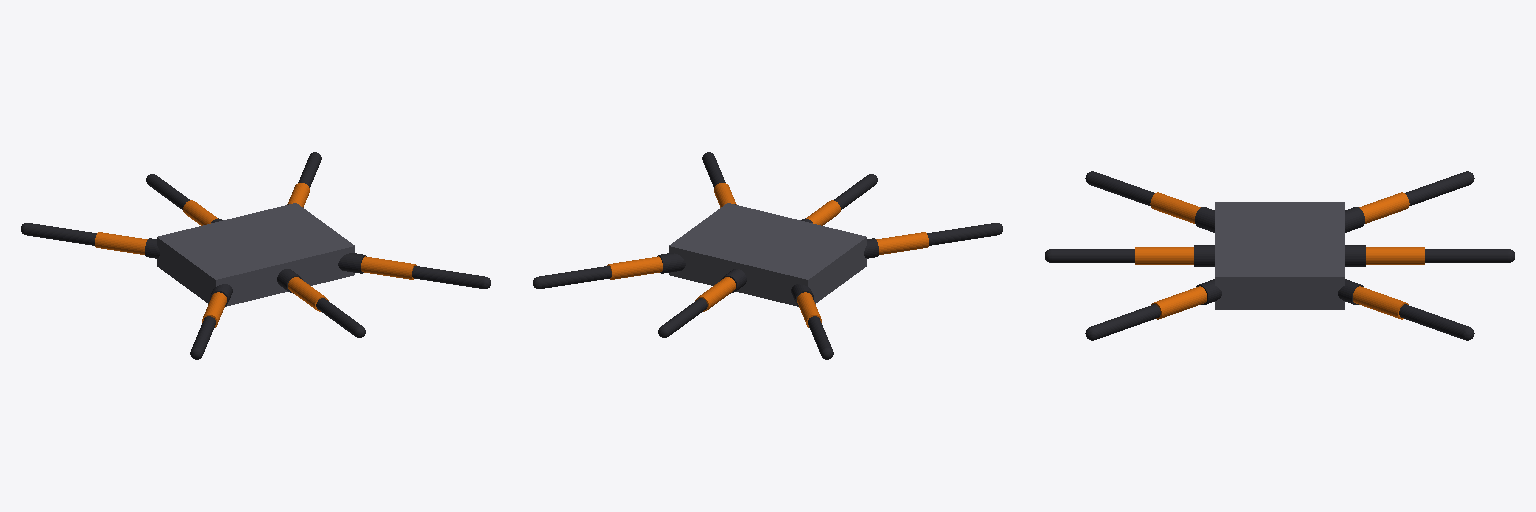
robot.urdf — hexapod:
<?xml version="1.0"?>
<!-- AUTO-GENERATED by scripts/generate_hexapod_urdf.py - do not hand-edit -->
<robot name="hexapod">
  <material name="body_grey"><color rgba="0.35 0.35 0.38 1"/></material>
  <material name="leg_orange"><color rgba="0.85 0.45 0.10 1"/></material>
  <material name="leg_dark"><color rgba="0.20 0.20 0.22 1"/></material>
  <link name="base_link">
    <inertial>
      <origin xyz="0 0 0" rpy="0 0 0"/>
      <mass value="1.2"/>
      <inertia ixx="5.200000e-03" ixy="0" ixz="0" iyy="9.360000e-03" iyz="0" izz="1.384000e-02"/>
    </inertial>
    <visual>
      <origin xyz="0 0 0" rpy="0 0 0"/>
      <geometry><box size="0.3 0.22 0.06"/></geometry>
      <material name="body_grey"/>
    </visual>
    <collision>
      <origin xyz="0 0 0" rpy="0 0 0"/>
      <geometry><box size="0.3 0.22 0.06"/></geometry>
    </collision>
  </link>
  <joint name="LF_coxa_joint" type="revolute">
    <origin xyz="0.12 0.09 0" rpy="0 0 0.87266463"/>
    <parent link="base_link"/>
    <child link="LF_coxa"/>
    <axis xyz="0 0 1"/>
    <limit lower="-0.9" upper="0.9" effort="3.0" velocity="4.8"/>
    <dynamics damping="0.01" friction="0.0"/>
  </joint>
  <link name="LF_coxa">
    <inertial>
      <origin xyz="0.0275 0 0" rpy="0 0 0"/>
      <mass value="0.08"/>
      <inertia ixx="1.296000e-05" ixy="0" ixz="0" iyy="2.664667e-05" iyz="0" izz="2.664667e-05"/>
    </inertial>
    <visual>
      <origin xyz="0.0275 0 0" rpy="0 1.57079633 0"/>
      <geometry><cylinder radius="0.018" length="0.055"/></geometry>
      <material name="leg_dark"/>
    </visual>
    <collision>
      <origin xyz="0.0275 0 0" rpy="0 1.57079633 0"/>
      <geometry><cylinder radius="0.018" length="0.055"/></geometry>
    </collision>
  </link>
  <joint name="LF_femur_joint" type="revolute">
    <origin xyz="0.055 0 0" rpy="0 0 0"/>
    <parent link="LF_coxa"/>
    <child link="LF_femur"/>
    <axis xyz="0 1 0"/>
    <limit lower="-1.6" upper="1.6" effort="3.0" velocity="4.8"/>
    <dynamics damping="0.01" friction="0.0"/>
  </joint>
  <link name="LF_femur">
    <inertial>
      <origin xyz="0.0500 0 0" rpy="0 0 0"/>
      <mass value="0.12"/>
      <inertia ixx="1.350000e-05" ixy="0" ixz="0" iyy="1.067500e-04" iyz="0" izz="1.067500e-04"/>
    </inertial>
    <visual>
      <origin xyz="0.0500 0 0" rpy="0 1.57079633 0"/>
      <geometry><cylinder radius="0.015" length="0.1"/></geometry>
      <material name="leg_orange"/>
    </visual>
    <collision>
      <origin xyz="0.0500 0 0" rpy="0 1.57079633 0"/>
      <geometry><cylinder radius="0.015" length="0.1"/></geometry>
    </collision>
  </link>
  <joint name="LF_tibia_joint" type="revolute">
    <origin xyz="0.1 0 0" rpy="0 0 0"/>
    <parent link="LF_femur"/>
    <child link="LF_tibia"/>
    <axis xyz="0 1 0"/>
    <limit lower="-0.2" upper="2.7" effort="3.0" velocity="4.8"/>
    <dynamics damping="0.01" friction="0.0"/>
  </joint>
  <link name="LF_tibia">
    <inertial>
      <origin xyz="0.0700 0 0" rpy="0 0 0"/>
      <mass value="0.1"/>
      <inertia ixx="7.200000e-06" ixy="0" ixz="0" iyy="1.669333e-04" iyz="0" izz="1.669333e-04"/>
    </inertial>
    <visual>
      <origin xyz="0.0700 0 0" rpy="0 1.57079633 0"/>
      <geometry><cylinder radius="0.012" length="0.14"/></geometry>
      <material name="leg_dark"/>
    </visual>
    <collision>
      <origin xyz="0.0700 0 0" rpy="0 1.57079633 0"/>
      <geometry><cylinder radius="0.012" length="0.14"/></geometry>
    </collision>
    <collision>
      <origin xyz="0.1400 0 0" rpy="0 0 0"/>
      <geometry><sphere radius="0.012"/></geometry>
    </collision>
    <visual>
      <origin xyz="0.1400 0 0" rpy="0 0 0"/>
      <geometry><sphere radius="0.012"/></geometry>
      <material name="leg_dark"/>
    </visual>
  </link>
  <joint name="LM_coxa_joint" type="revolute">
    <origin xyz="0.0 0.09 0" rpy="0 0 1.57079633"/>
    <parent link="base_link"/>
    <child link="LM_coxa"/>
    <axis xyz="0 0 1"/>
    <limit lower="-0.9" upper="0.9" effort="3.0" velocity="4.8"/>
    <dynamics damping="0.01" friction="0.0"/>
  </joint>
  <link name="LM_coxa">
    <inertial>
      <origin xyz="0.0275 0 0" rpy="0 0 0"/>
      <mass value="0.08"/>
      <inertia ixx="1.296000e-05" ixy="0" ixz="0" iyy="2.664667e-05" iyz="0" izz="2.664667e-05"/>
    </inertial>
    <visual>
      <origin xyz="0.0275 0 0" rpy="0 1.57079633 0"/>
      <geometry><cylinder radius="0.018" length="0.055"/></geometry>
      <material name="leg_dark"/>
    </visual>
    <collision>
      <origin xyz="0.0275 0 0" rpy="0 1.57079633 0"/>
      <geometry><cylinder radius="0.018" length="0.055"/></geometry>
    </collision>
  </link>
  <joint name="LM_femur_joint" type="revolute">
    <origin xyz="0.055 0 0" rpy="0 0 0"/>
    <parent link="LM_coxa"/>
    <child link="LM_femur"/>
    <axis xyz="0 1 0"/>
    <limit lower="-1.6" upper="1.6" effort="3.0" velocity="4.8"/>
    <dynamics damping="0.01" friction="0.0"/>
  </joint>
  <link name="LM_femur">
    <inertial>
      <origin xyz="0.0500 0 0" rpy="0 0 0"/>
      <mass value="0.12"/>
      <inertia ixx="1.350000e-05" ixy="0" ixz="0" iyy="1.067500e-04" iyz="0" izz="1.067500e-04"/>
    </inertial>
    <visual>
      <origin xyz="0.0500 0 0" rpy="0 1.57079633 0"/>
      <geometry><cylinder radius="0.015" length="0.1"/></geometry>
      <material name="leg_orange"/>
    </visual>
    <collision>
      <origin xyz="0.0500 0 0" rpy="0 1.57079633 0"/>
      <geometry><cylinder radius="0.015" length="0.1"/></geometry>
    </collision>
  </link>
  <joint name="LM_tibia_joint" type="revolute">
    <origin xyz="0.1 0 0" rpy="0 0 0"/>
    <parent link="LM_femur"/>
    <child link="LM_tibia"/>
    <axis xyz="0 1 0"/>
    <limit lower="-0.2" upper="2.7" effort="3.0" velocity="4.8"/>
    <dynamics damping="0.01" friction="0.0"/>
  </joint>
  <link name="LM_tibia">
    <inertial>
      <origin xyz="0.0700 0 0" rpy="0 0 0"/>
      <mass value="0.1"/>
      <inertia ixx="7.200000e-06" ixy="0" ixz="0" iyy="1.669333e-04" iyz="0" izz="1.669333e-04"/>
    </inertial>
    <visual>
      <origin xyz="0.0700 0 0" rpy="0 1.57079633 0"/>
      <geometry><cylinder radius="0.012" length="0.14"/></geometry>
      <material name="leg_dark"/>
    </visual>
    <collision>
      <origin xyz="0.0700 0 0" rpy="0 1.57079633 0"/>
      <geometry><cylinder radius="0.012" length="0.14"/></geometry>
    </collision>
    <collision>
      <origin xyz="0.1400 0 0" rpy="0 0 0"/>
      <geometry><sphere radius="0.012"/></geometry>
    </collision>
    <visual>
      <origin xyz="0.1400 0 0" rpy="0 0 0"/>
      <geometry><sphere radius="0.012"/></geometry>
      <material name="leg_dark"/>
    </visual>
  </link>
  <joint name="LR_coxa_joint" type="revolute">
    <origin xyz="-0.12 0.09 0" rpy="0 0 2.26892803"/>
    <parent link="base_link"/>
    <child link="LR_coxa"/>
    <axis xyz="0 0 1"/>
    <limit lower="-0.9" upper="0.9" effort="3.0" velocity="4.8"/>
    <dynamics damping="0.01" friction="0.0"/>
  </joint>
  <link name="LR_coxa">
    <inertial>
      <origin xyz="0.0275 0 0" rpy="0 0 0"/>
      <mass value="0.08"/>
      <inertia ixx="1.296000e-05" ixy="0" ixz="0" iyy="2.664667e-05" iyz="0" izz="2.664667e-05"/>
    </inertial>
    <visual>
      <origin xyz="0.0275 0 0" rpy="0 1.57079633 0"/>
      <geometry><cylinder radius="0.018" length="0.055"/></geometry>
      <material name="leg_dark"/>
    </visual>
    <collision>
      <origin xyz="0.0275 0 0" rpy="0 1.57079633 0"/>
      <geometry><cylinder radius="0.018" length="0.055"/></geometry>
    </collision>
  </link>
  <joint name="LR_femur_joint" type="revolute">
    <origin xyz="0.055 0 0" rpy="0 0 0"/>
    <parent link="LR_coxa"/>
    <child link="LR_femur"/>
    <axis xyz="0 1 0"/>
    <limit lower="-1.6" upper="1.6" effort="3.0" velocity="4.8"/>
    <dynamics damping="0.01" friction="0.0"/>
  </joint>
  <link name="LR_femur">
    <inertial>
      <origin xyz="0.0500 0 0" rpy="0 0 0"/>
      <mass value="0.12"/>
      <inertia ixx="1.350000e-05" ixy="0" ixz="0" iyy="1.067500e-04" iyz="0" izz="1.067500e-04"/>
    </inertial>
    <visual>
      <origin xyz="0.0500 0 0" rpy="0 1.57079633 0"/>
      <geometry><cylinder radius="0.015" length="0.1"/></geometry>
      <material name="leg_orange"/>
    </visual>
    <collision>
      <origin xyz="0.0500 0 0" rpy="0 1.57079633 0"/>
      <geometry><cylinder radius="0.015" length="0.1"/></geometry>
    </collision>
  </link>
  <joint name="LR_tibia_joint" type="revolute">
    <origin xyz="0.1 0 0" rpy="0 0 0"/>
    <parent link="LR_femur"/>
    <child link="LR_tibia"/>
    <axis xyz="0 1 0"/>
    <limit lower="-0.2" upper="2.7" effort="3.0" velocity="4.8"/>
    <dynamics damping="0.01" friction="0.0"/>
  </joint>
  <link name="LR_tibia">
    <inertial>
      <origin xyz="0.0700 0 0" rpy="0 0 0"/>
      <mass value="0.1"/>
      <inertia ixx="7.200000e-06" ixy="0" ixz="0" iyy="1.669333e-04" iyz="0" izz="1.669333e-04"/>
    </inertial>
    <visual>
      <origin xyz="0.0700 0 0" rpy="0 1.57079633 0"/>
      <geometry><cylinder radius="0.012" length="0.14"/></geometry>
      <material name="leg_dark"/>
    </visual>
    <collision>
      <origin xyz="0.0700 0 0" rpy="0 1.57079633 0"/>
      <geometry><cylinder radius="0.012" length="0.14"/></geometry>
    </collision>
    <collision>
      <origin xyz="0.1400 0 0" rpy="0 0 0"/>
      <geometry><sphere radius="0.012"/></geometry>
    </collision>
    <visual>
      <origin xyz="0.1400 0 0" rpy="0 0 0"/>
      <geometry><sphere radius="0.012"/></geometry>
      <material name="leg_dark"/>
    </visual>
  </link>
  <joint name="RF_coxa_joint" type="revolute">
    <origin xyz="0.12 -0.09 0" rpy="0 0 -0.87266463"/>
    <parent link="base_link"/>
    <child link="RF_coxa"/>
    <axis xyz="0 0 1"/>
    <limit lower="-0.9" upper="0.9" effort="3.0" velocity="4.8"/>
    <dynamics damping="0.01" friction="0.0"/>
  </joint>
  <link name="RF_coxa">
    <inertial>
      <origin xyz="0.0275 0 0" rpy="0 0 0"/>
      <mass value="0.08"/>
      <inertia ixx="1.296000e-05" ixy="0" ixz="0" iyy="2.664667e-05" iyz="0" izz="2.664667e-05"/>
    </inertial>
    <visual>
      <origin xyz="0.0275 0 0" rpy="0 1.57079633 0"/>
      <geometry><cylinder radius="0.018" length="0.055"/></geometry>
      <material name="leg_dark"/>
    </visual>
    <collision>
      <origin xyz="0.0275 0 0" rpy="0 1.57079633 0"/>
      <geometry><cylinder radius="0.018" length="0.055"/></geometry>
    </collision>
  </link>
  <joint name="RF_femur_joint" type="revolute">
    <origin xyz="0.055 0 0" rpy="0 0 0"/>
    <parent link="RF_coxa"/>
    <child link="RF_femur"/>
    <axis xyz="0 1 0"/>
    <limit lower="-1.6" upper="1.6" effort="3.0" velocity="4.8"/>
    <dynamics damping="0.01" friction="0.0"/>
  </joint>
  <link name="RF_femur">
    <inertial>
      <origin xyz="0.0500 0 0" rpy="0 0 0"/>
      <mass value="0.12"/>
      <inertia ixx="1.350000e-05" ixy="0" ixz="0" iyy="1.067500e-04" iyz="0" izz="1.067500e-04"/>
    </inertial>
    <visual>
      <origin xyz="0.0500 0 0" rpy="0 1.57079633 0"/>
      <geometry><cylinder radius="0.015" length="0.1"/></geometry>
      <material name="leg_orange"/>
    </visual>
    <collision>
      <origin xyz="0.0500 0 0" rpy="0 1.57079633 0"/>
      <geometry><cylinder radius="0.015" length="0.1"/></geometry>
    </collision>
  </link>
  <joint name="RF_tibia_joint" type="revolute">
    <origin xyz="0.1 0 0" rpy="0 0 0"/>
    <parent link="RF_femur"/>
    <child link="RF_tibia"/>
    <axis xyz="0 1 0"/>
    <limit lower="-0.2" upper="2.7" effort="3.0" velocity="4.8"/>
    <dynamics damping="0.01" friction="0.0"/>
  </joint>
  <link name="RF_tibia">
    <inertial>
      <origin xyz="0.0700 0 0" rpy="0 0 0"/>
      <mass value="0.1"/>
      <inertia ixx="7.200000e-06" ixy="0" ixz="0" iyy="1.669333e-04" iyz="0" izz="1.669333e-04"/>
    </inertial>
    <visual>
      <origin xyz="0.0700 0 0" rpy="0 1.57079633 0"/>
      <geometry><cylinder radius="0.012" length="0.14"/></geometry>
      <material name="leg_dark"/>
    </visual>
    <collision>
      <origin xyz="0.0700 0 0" rpy="0 1.57079633 0"/>
      <geometry><cylinder radius="0.012" length="0.14"/></geometry>
    </collision>
    <collision>
      <origin xyz="0.1400 0 0" rpy="0 0 0"/>
      <geometry><sphere radius="0.012"/></geometry>
    </collision>
    <visual>
      <origin xyz="0.1400 0 0" rpy="0 0 0"/>
      <geometry><sphere radius="0.012"/></geometry>
      <material name="leg_dark"/>
    </visual>
  </link>
  <joint name="RM_coxa_joint" type="revolute">
    <origin xyz="0.0 -0.09 0" rpy="0 0 -1.57079633"/>
    <parent link="base_link"/>
    <child link="RM_coxa"/>
    <axis xyz="0 0 1"/>
    <limit lower="-0.9" upper="0.9" effort="3.0" velocity="4.8"/>
    <dynamics damping="0.01" friction="0.0"/>
  </joint>
  <link name="RM_coxa">
    <inertial>
      <origin xyz="0.0275 0 0" rpy="0 0 0"/>
      <mass value="0.08"/>
      <inertia ixx="1.296000e-05" ixy="0" ixz="0" iyy="2.664667e-05" iyz="0" izz="2.664667e-05"/>
    </inertial>
    <visual>
      <origin xyz="0.0275 0 0" rpy="0 1.57079633 0"/>
      <geometry><cylinder radius="0.018" length="0.055"/></geometry>
      <material name="leg_dark"/>
    </visual>
    <collision>
      <origin xyz="0.0275 0 0" rpy="0 1.57079633 0"/>
      <geometry><cylinder radius="0.018" length="0.055"/></geometry>
    </collision>
  </link>
  <joint name="RM_femur_joint" type="revolute">
    <origin xyz="0.055 0 0" rpy="0 0 0"/>
    <parent link="RM_coxa"/>
    <child link="RM_femur"/>
    <axis xyz="0 1 0"/>
    <limit lower="-1.6" upper="1.6" effort="3.0" velocity="4.8"/>
    <dynamics damping="0.01" friction="0.0"/>
  </joint>
  <link name="RM_femur">
    <inertial>
      <origin xyz="0.0500 0 0" rpy="0 0 0"/>
      <mass value="0.12"/>
      <inertia ixx="1.350000e-05" ixy="0" ixz="0" iyy="1.067500e-04" iyz="0" izz="1.067500e-04"/>
    </inertial>
    <visual>
      <origin xyz="0.0500 0 0" rpy="0 1.57079633 0"/>
      <geometry><cylinder radius="0.015" length="0.1"/></geometry>
      <material name="leg_orange"/>
    </visual>
    <collision>
      <origin xyz="0.0500 0 0" rpy="0 1.57079633 0"/>
      <geometry><cylinder radius="0.015" length="0.1"/></geometry>
    </collision>
  </link>
  <joint name="RM_tibia_joint" type="revolute">
    <origin xyz="0.1 0 0" rpy="0 0 0"/>
    <parent link="RM_femur"/>
    <child link="RM_tibia"/>
    <axis xyz="0 1 0"/>
    <limit lower="-0.2" upper="2.7" effort="3.0" velocity="4.8"/>
    <dynamics damping="0.01" friction="0.0"/>
  </joint>
  <link name="RM_tibia">
    <inertial>
      <origin xyz="0.0700 0 0" rpy="0 0 0"/>
      <mass value="0.1"/>
      <inertia ixx="7.200000e-06" ixy="0" ixz="0" iyy="1.669333e-04" iyz="0" izz="1.669333e-04"/>
    </inertial>
    <visual>
      <origin xyz="0.0700 0 0" rpy="0 1.57079633 0"/>
      <geometry><cylinder radius="0.012" length="0.14"/></geometry>
      <material name="leg_dark"/>
    </visual>
    <collision>
      <origin xyz="0.0700 0 0" rpy="0 1.57079633 0"/>
      <geometry><cylinder radius="0.012" length="0.14"/></geometry>
    </collision>
    <collision>
      <origin xyz="0.1400 0 0" rpy="0 0 0"/>
      <geometry><sphere radius="0.012"/></geometry>
    </collision>
    <visual>
      <origin xyz="0.1400 0 0" rpy="0 0 0"/>
      <geometry><sphere radius="0.012"/></geometry>
      <material name="leg_dark"/>
    </visual>
  </link>
  <joint name="RR_coxa_joint" type="revolute">
    <origin xyz="-0.12 -0.09 0" rpy="0 0 -2.26892803"/>
    <parent link="base_link"/>
    <child link="RR_coxa"/>
    <axis xyz="0 0 1"/>
    <limit lower="-0.9" upper="0.9" effort="3.0" velocity="4.8"/>
    <dynamics damping="0.01" friction="0.0"/>
  </joint>
  <link name="RR_coxa">
    <inertial>
      <origin xyz="0.0275 0 0" rpy="0 0 0"/>
      <mass value="0.08"/>
      <inertia ixx="1.296000e-05" ixy="0" ixz="0" iyy="2.664667e-05" iyz="0" izz="2.664667e-05"/>
    </inertial>
    <visual>
      <origin xyz="0.0275 0 0" rpy="0 1.57079633 0"/>
      <geometry><cylinder radius="0.018" length="0.055"/></geometry>
      <material name="leg_dark"/>
    </visual>
    <collision>
      <origin xyz="0.0275 0 0" rpy="0 1.57079633 0"/>
      <geometry><cylinder radius="0.018" length="0.055"/></geometry>
    </collision>
  </link>
  <joint name="RR_femur_joint" type="revolute">
    <origin xyz="0.055 0 0" rpy="0 0 0"/>
    <parent link="RR_coxa"/>
    <child link="RR_femur"/>
    <axis xyz="0 1 0"/>
    <limit lower="-1.6" upper="1.6" effort="3.0" velocity="4.8"/>
    <dynamics damping="0.01" friction="0.0"/>
  </joint>
  <link name="RR_femur">
    <inertial>
      <origin xyz="0.0500 0 0" rpy="0 0 0"/>
      <mass value="0.12"/>
      <inertia ixx="1.350000e-05" ixy="0" ixz="0" iyy="1.067500e-04" iyz="0" izz="1.067500e-04"/>
    </inertial>
    <visual>
      <origin xyz="0.0500 0 0" rpy="0 1.57079633 0"/>
      <geometry><cylinder radius="0.015" length="0.1"/></geometry>
      <material name="leg_orange"/>
    </visual>
    <collision>
      <origin xyz="0.0500 0 0" rpy="0 1.57079633 0"/>
      <geometry><cylinder radius="0.015" length="0.1"/></geometry>
    </collision>
  </link>
  <joint name="RR_tibia_joint" type="revolute">
    <origin xyz="0.1 0 0" rpy="0 0 0"/>
    <parent link="RR_femur"/>
    <child link="RR_tibia"/>
    <axis xyz="0 1 0"/>
    <limit lower="-0.2" upper="2.7" effort="3.0" velocity="4.8"/>
    <dynamics damping="0.01" friction="0.0"/>
  </joint>
  <link name="RR_tibia">
    <inertial>
      <origin xyz="0.0700 0 0" rpy="0 0 0"/>
      <mass value="0.1"/>
      <inertia ixx="7.200000e-06" ixy="0" ixz="0" iyy="1.669333e-04" iyz="0" izz="1.669333e-04"/>
    </inertial>
    <visual>
      <origin xyz="0.0700 0 0" rpy="0 1.57079633 0"/>
      <geometry><cylinder radius="0.012" length="0.14"/></geometry>
      <material name="leg_dark"/>
    </visual>
    <collision>
      <origin xyz="0.0700 0 0" rpy="0 1.57079633 0"/>
      <geometry><cylinder radius="0.012" length="0.14"/></geometry>
    </collision>
    <collision>
      <origin xyz="0.1400 0 0" rpy="0 0 0"/>
      <geometry><sphere radius="0.012"/></geometry>
    </collision>
    <visual>
      <origin xyz="0.1400 0 0" rpy="0 0 0"/>
      <geometry><sphere radius="0.012"/></geometry>
      <material name="leg_dark"/>
    </visual>
  </link>
</robot>

--- Render facts (derived) ---
3 views of the same robot in one strip: view 1: azimuth 30°, elevation 25°; view 2: azimuth 150°, elevation 25°; view 3: azimuth 270°, elevation 25° (orthographic).
Robot: hexapod — 19 links, 18 joints (18 revolute); root link base_link; default pose: every joint at zero.
Links seen in each view (by area): view 1: base_link, RF_tibia, LR_tibia, RF_femur, LR_femur, RM_tibia, LM_tibia, RM_femur, RR_tibia; view 2: base_link, LF_tibia, RR_tibia, LF_femur, RR_femur, LM_tibia, RM_tibia, LM_femur, LR_tibia; view 3: base_link, LM_tibia, RM_tibia, LF_tibia, RF_tibia, LM_femur, RM_femur, LR_tibia, RR_tibia, LF_femur, RF_femur, LR_femur (+1 smaller).
Link boxes in pixels (x1,y1,x2,y2): base_link: [157, 203, 354, 306]; RF_tibia: [412, 266, 490, 288]; LR_tibia: [21, 223, 96, 245]; RF_femur: [361, 256, 416, 279]; LR_femur: [95, 232, 147, 254]; RM_tibia: [316, 298, 365, 337]; LM_tibia: [146, 174, 189, 209]; RM_femur: [288, 277, 328, 311]; RR_tibia: [190, 316, 215, 359]; base_link: [669, 203, 866, 306]; LF_tibia: [533, 266, 611, 288]; RR_tibia: [927, 223, 1002, 245]; LF_femur: [607, 256, 662, 279]; RR_femur: [876, 232, 928, 254]; LM_tibia: [658, 298, 707, 337]; RM_tibia: [834, 174, 877, 209]; LM_femur: [695, 277, 735, 311]; LR_tibia: [808, 316, 833, 359]; base_link: [1215, 202, 1344, 309]; LM_tibia: [1425, 249, 1514, 262]; RM_tibia: [1045, 249, 1134, 262]; LF_tibia: [1399, 304, 1474, 340]; RF_tibia: [1085, 304, 1160, 340]; LM_femur: [1366, 247, 1424, 264]; RM_femur: [1135, 247, 1193, 264]; LR_tibia: [1405, 171, 1474, 205]; RR_tibia: [1085, 171, 1154, 205]; LF_femur: [1353, 286, 1408, 319]; RF_femur: [1151, 286, 1206, 319]; LR_femur: [1359, 192, 1409, 223].
Size in the robot's own frame: 0.6432 by 0.794 by 0.06 metres.
Geometry: primitives only (box / cylinder / sphere), no mesh files.
